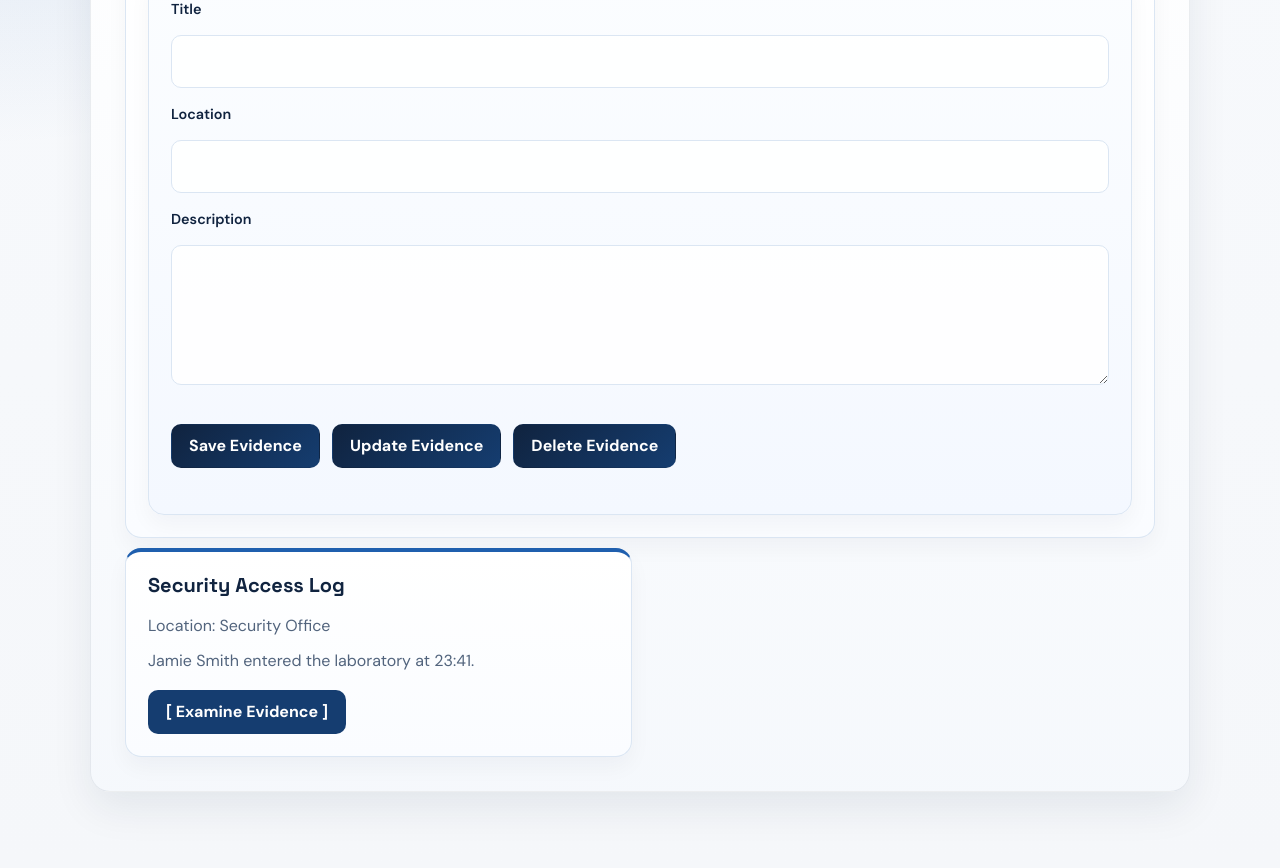
Test: Evidence page › loads evidence and displays the examined item details
This screenshot has width=1280, height=868.
(page scrolled)
Expected: the heading "Security Access Log" is shown, [148,572,345,598]
Click the button "[ Examine Evidence ]".
click(247, 712)  # box [148,690,346,734]
(page scrolled)
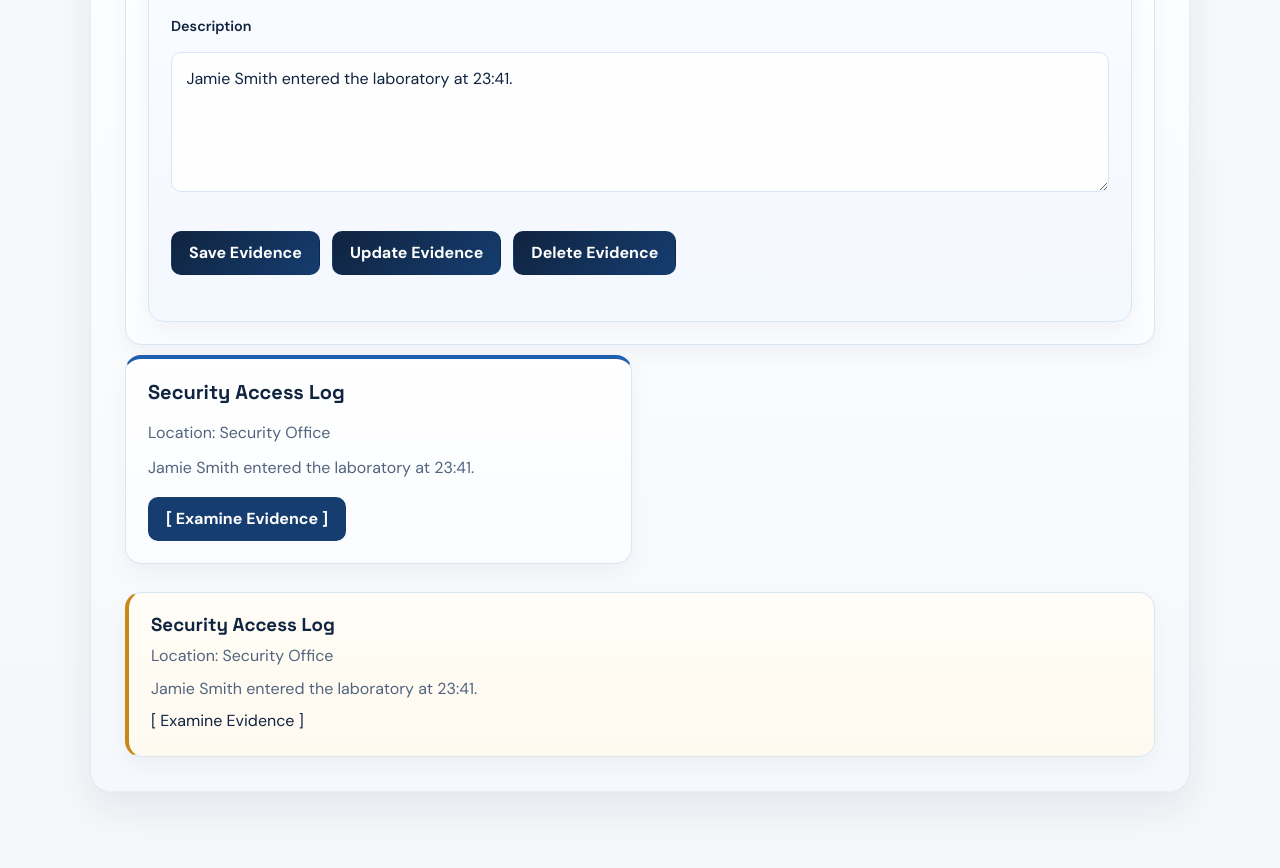
Expected: the 2nd text "Jamie Smith entered the laboratory at 23:41." is shown, [151,678,477,699]
